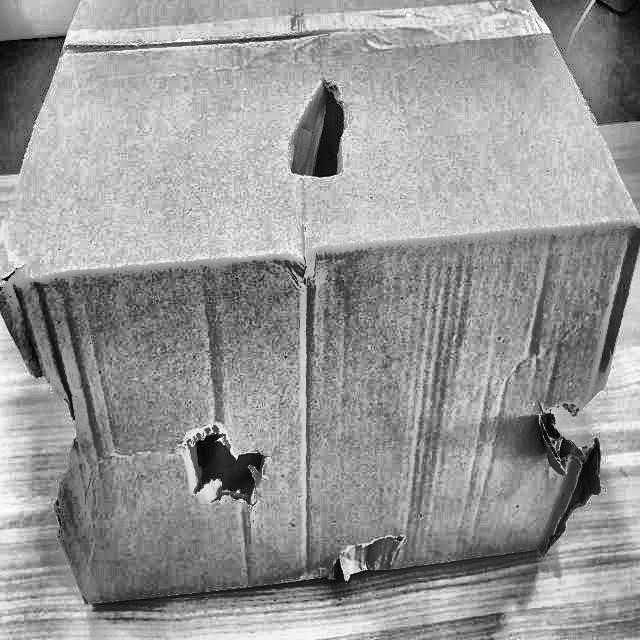box: (0, 0, 639, 625)
hole: (30, 352, 93, 528), (182, 423, 269, 518), (289, 76, 349, 188), (539, 385, 602, 474), (328, 529, 404, 579)
